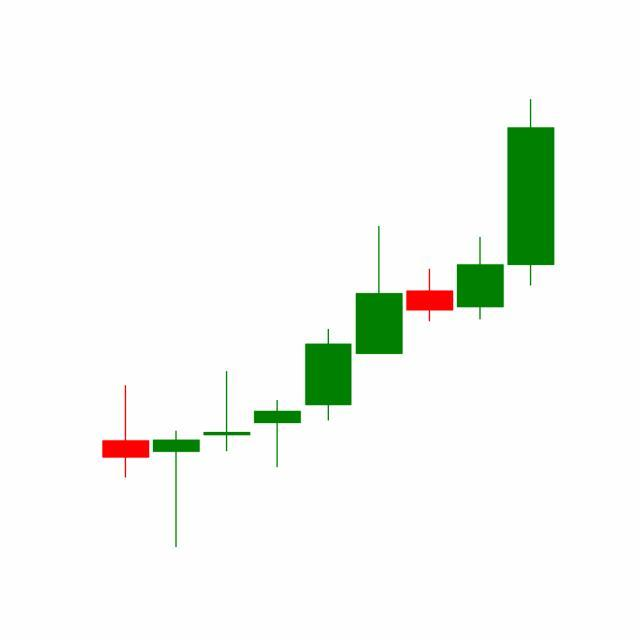Hikkake Pattern: (252, 225, 506, 472)
